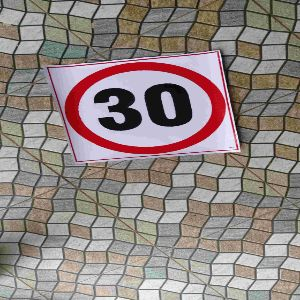speedlimit30: (60, 64, 236, 157)
